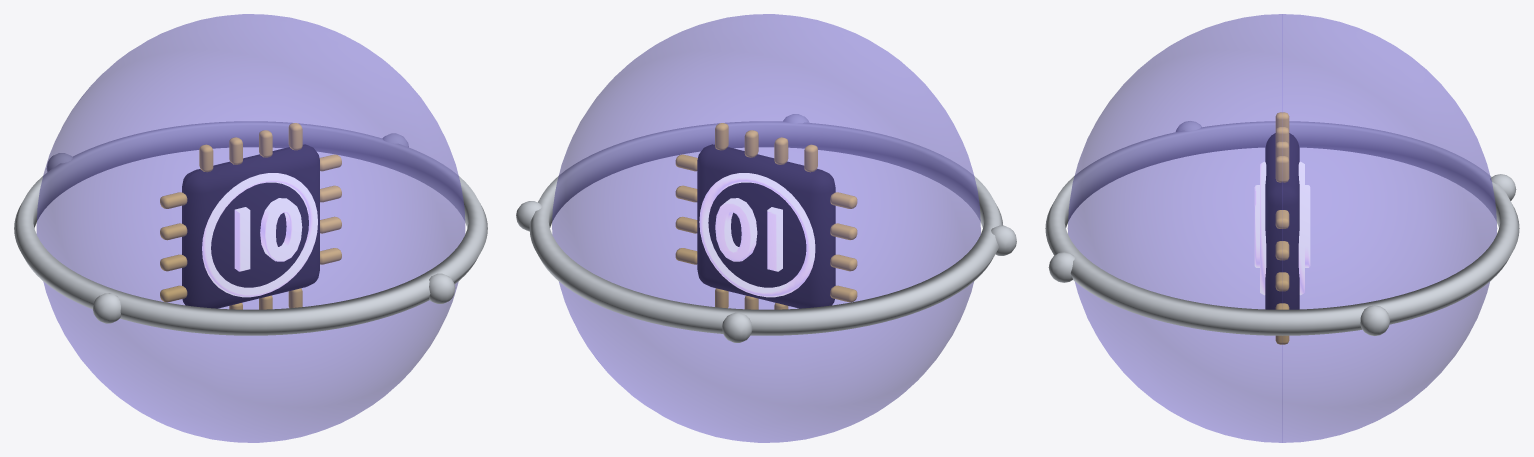
File: BitCoin.glb
The picture shows the model from 3 angles, left to right: view 1: azimuth 30°, elevation 25°; view 2: azimuth 150°, elevation 25°; view 3: azimuth 270°, elevation 25°; orthographic projection.
Parts seen in each view (by area): view 1: Orb__Glass__8B7CFF, Ring__Metal__C9CED6, Chip__SmoothPlastic__1E1B2E__Spin, Core__Neon__B9A8FF__Spin, Pins__Foil__E8C35A__Spin; view 2: Orb__Glass__8B7CFF, Ring__Metal__C9CED6, Chip__SmoothPlastic__1E1B2E__Spin, Core__Neon__B9A8FF__Spin, Pins__Foil__E8C35A__Spin; view 3: Orb__Glass__8B7CFF, Ring__Metal__C9CED6, Chip__SmoothPlastic__1E1B2E__Spin, Core__Neon__B9A8FF__Spin, Pins__Foil__E8C35A__Spin.
Boxes of the visible parts, <box> form: Orb__Glass__8B7CFF: <box>36,14,465,442</box>; Ring__Metal__C9CED6: <box>14,121,487,335</box>; Chip__SmoothPlastic__1E1B2E__Spin: <box>182,144,319,308</box>; Core__Neon__B9A8FF__Spin: <box>202,173,317,297</box>; Pins__Foil__E8C35A__Spin: <box>160,123,341,309</box>; Orb__Glass__8B7CFF: <box>552,14,980,442</box>; Ring__Metal__C9CED6: <box>516,114,1016,342</box>; Chip__SmoothPlastic__1E1B2E__Spin: <box>697,144,835,308</box>; Core__Neon__B9A8FF__Spin: <box>699,173,815,297</box>; Pins__Foil__E8C35A__Spin: <box>675,123,857,309</box>; Orb__Glass__8B7CFF: <box>1067,14,1497,442</box>; Ring__Metal__C9CED6: <box>1045,121,1519,335</box>; Chip__SmoothPlastic__1E1B2E__Spin: <box>1265,133,1299,309</box>; Core__Neon__B9A8FF__Spin: <box>1254,161,1310,295</box>; Pins__Foil__E8C35A__Spin: <box>1275,112,1289,344</box>.
Bounding box in the file's own units: 2.76 × 2.5 × 2.76.
